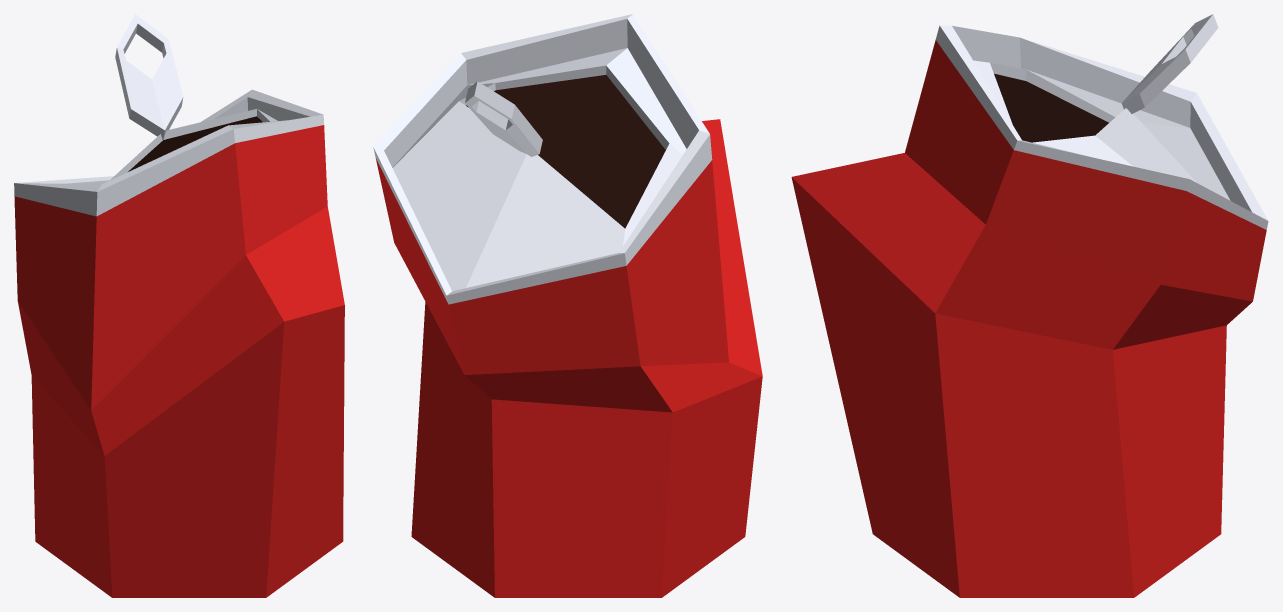
Rendered from latinha.fbx.
The picture shows the model from 3 angles, left to right: view 1: azimuth 30°, elevation 25°; view 2: azimuth 150°, elevation 25°; view 3: azimuth 270°, elevation 25°; orthographic projection. The views are drawn at different scales.
Parts seen in each view (by area): view 1: LatinhaAmassada; view 2: LatinhaAmassada; view 3: LatinhaAmassada.
Part boxes in pixels (x1,y1,x2,y2): LatinhaAmassada: (14,14,344,597); LatinhaAmassada: (373,14,762,597); LatinhaAmassada: (791,14,1268,597).
Bounding box in the file's own units: 21.36 × 37.79 × 30.77.
